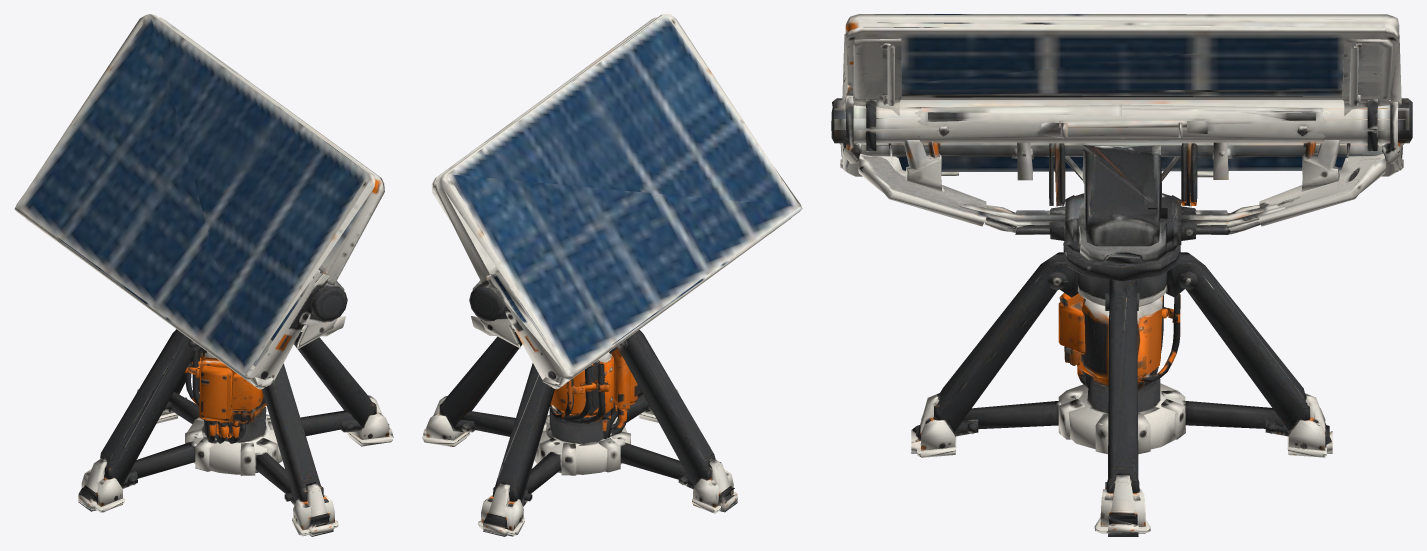
File: AW-MOON-SOLAR-001-v0.2.glb
3 views of the same model, side by side, from view 1: azimuth 30°, elevation 25°; view 2: azimuth 150°, elevation 25°; view 3: azimuth 270°, elevation 25° (orthographic). The views are drawn at different scales.
Visible parts, largest first — view 1: AW-MOON-SOLAR-001_meter_ground_pivot; view 2: AW-MOON-SOLAR-001_meter_ground_pivot; view 3: AW-MOON-SOLAR-001_meter_ground_pivot.
Part boxes in pixels (left/top/right/bottom): AW-MOON-SOLAR-001_meter_ground_pivot: left=14, top=14, right=393, bottom=536; AW-MOON-SOLAR-001_meter_ground_pivot: left=422, top=14, right=802, bottom=536; AW-MOON-SOLAR-001_meter_ground_pivot: left=831, top=14, right=1412, bottom=536.
Size of the model in its own units: 2.55 by 3 by 3.52.
Materials: 1 (1 with a texture image).
